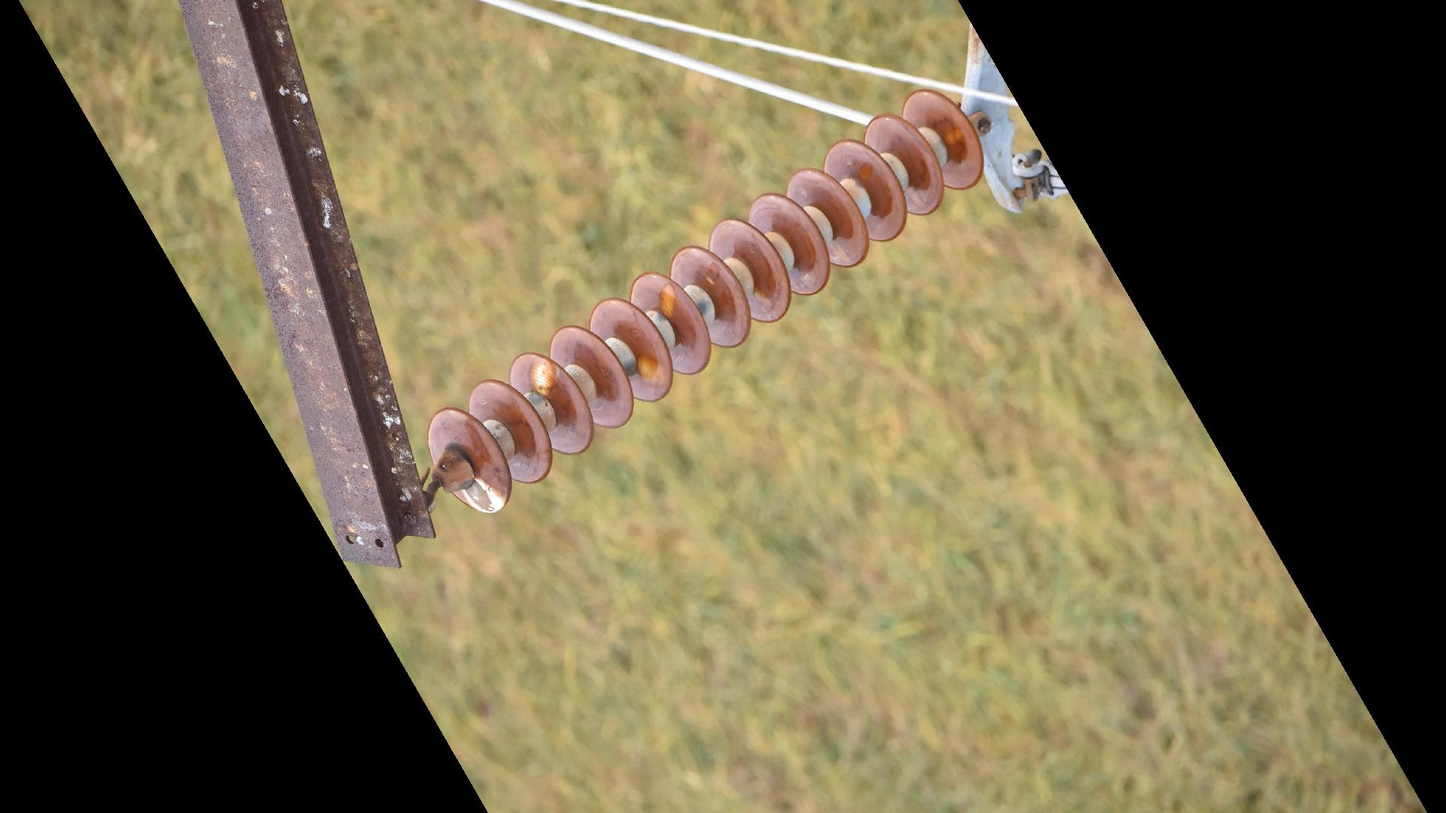insulator: (419, 85, 987, 523)
insulator_flashover: (461, 473, 508, 516), (633, 353, 668, 389), (526, 356, 557, 396), (657, 281, 677, 318)
